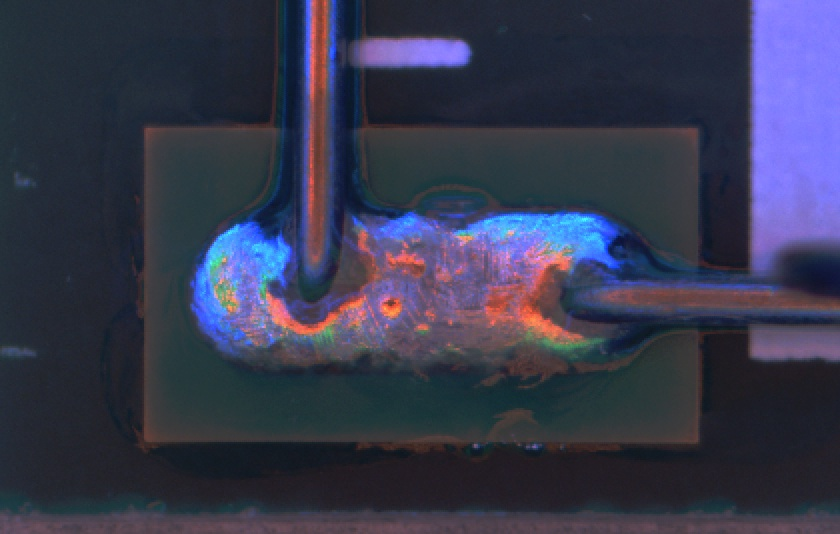spring: (286, 1, 353, 311), (557, 273, 840, 333)
spring_pin: (195, 211, 672, 380)
